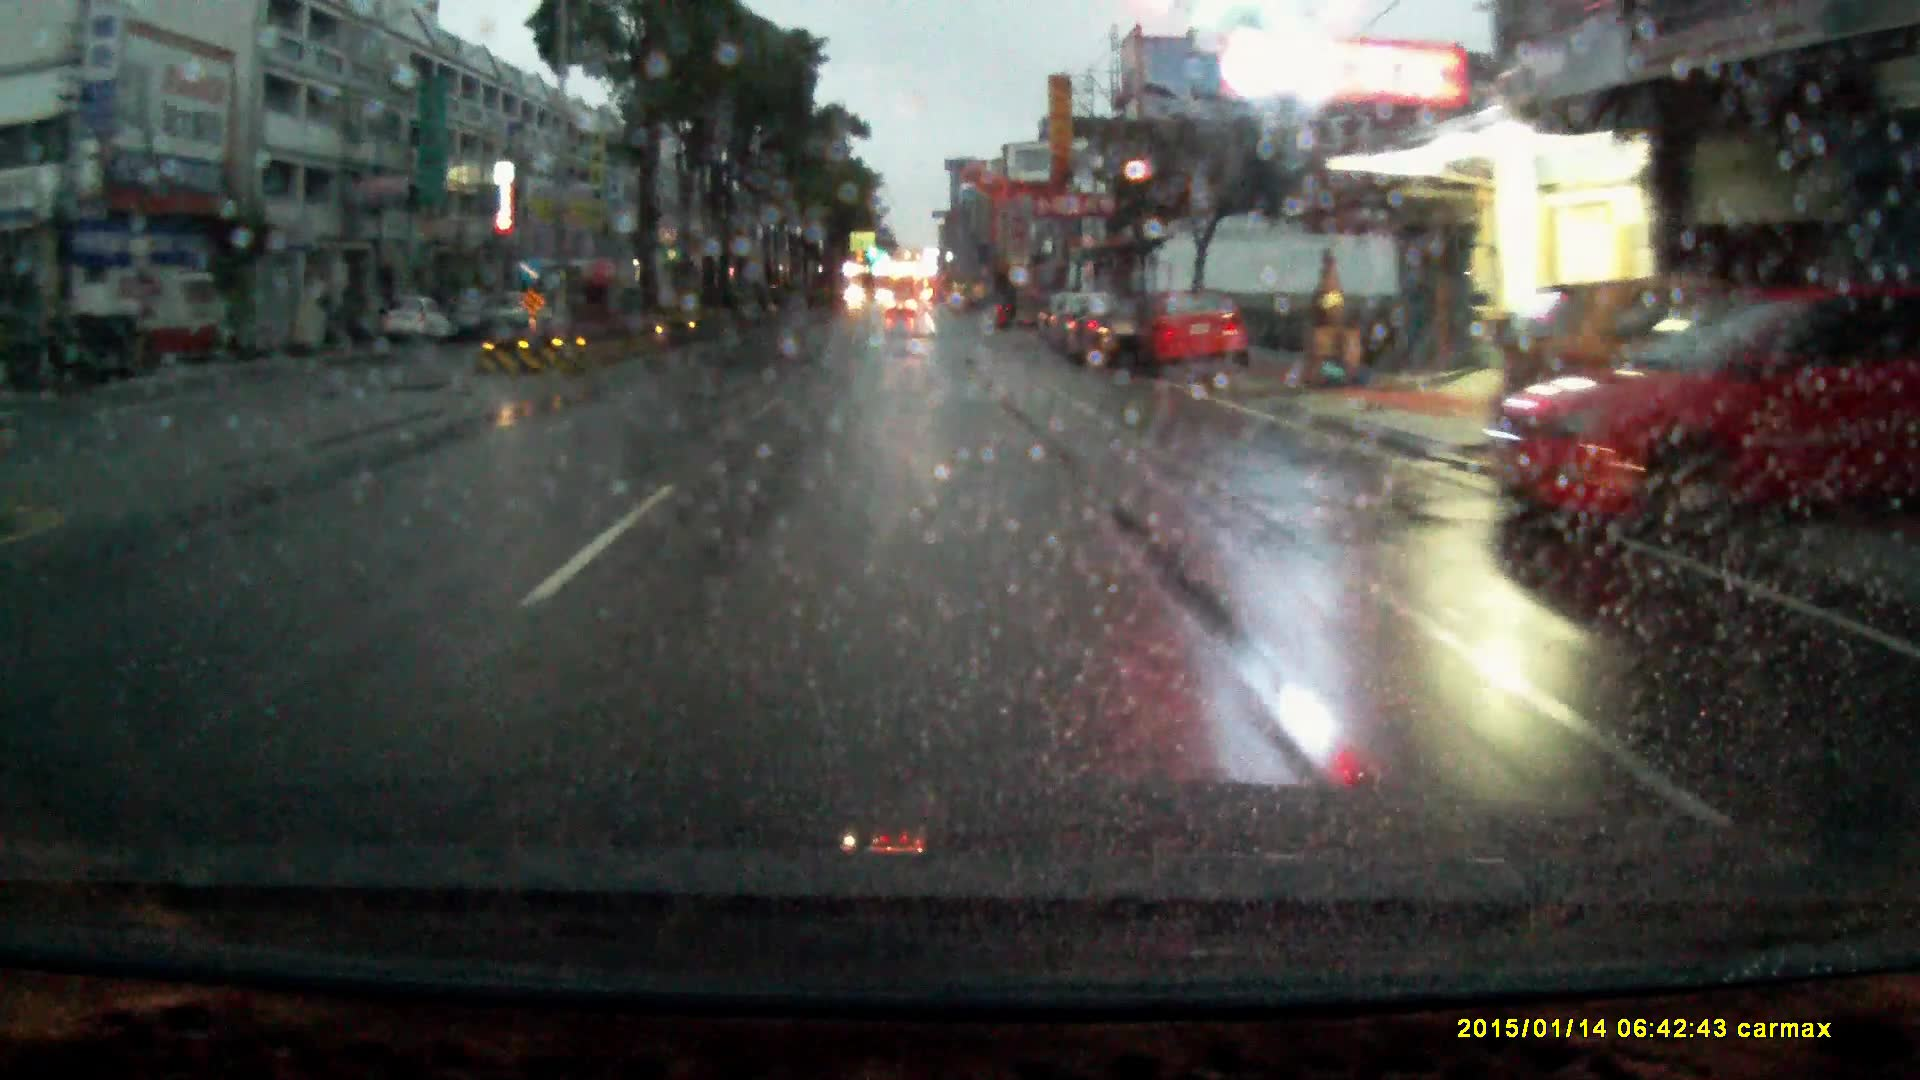vehicle: (1491, 281, 1892, 539), (1131, 290, 1251, 382), (1059, 295, 1141, 375), (378, 290, 454, 345), (488, 287, 560, 334), (1043, 289, 1063, 343), (887, 291, 918, 318)
